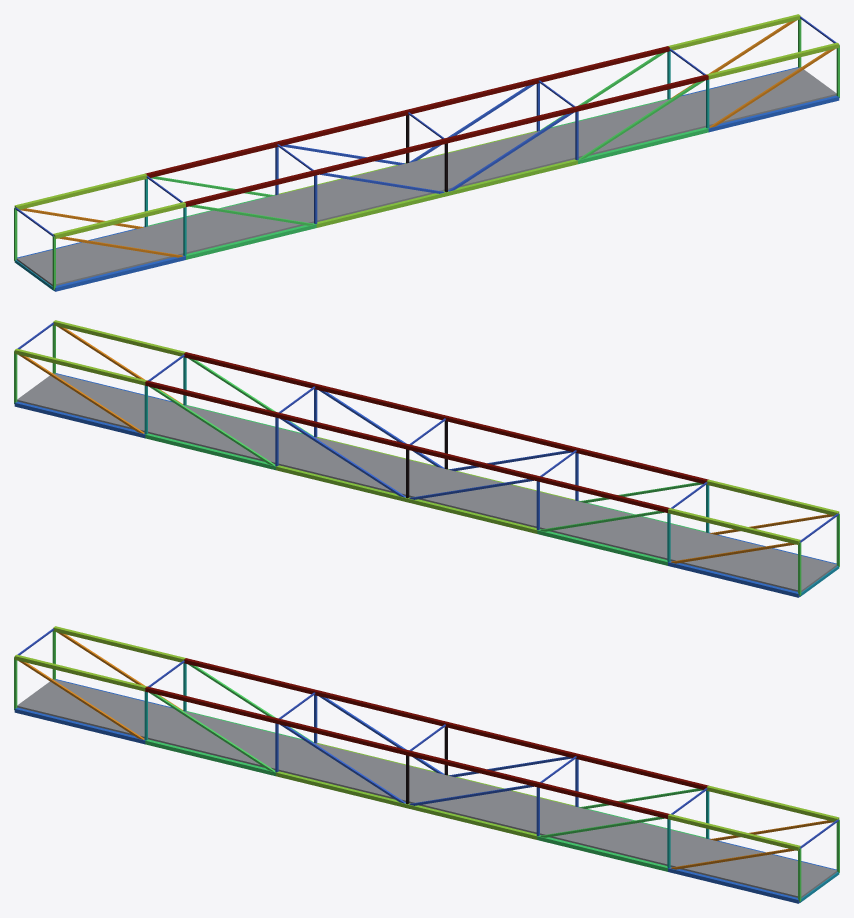
The model's file is 35_2.25_6_HEA200.glb.
3 renders of one model, top to bottom at view 1: azimuth 30°, elevation 25°; view 2: azimuth 150°, elevation 25°; view 3: azimuth 330°, elevation 25°, orthographic.
Size of the model in its own units: 35.09 by 2.41 by 3.16.
